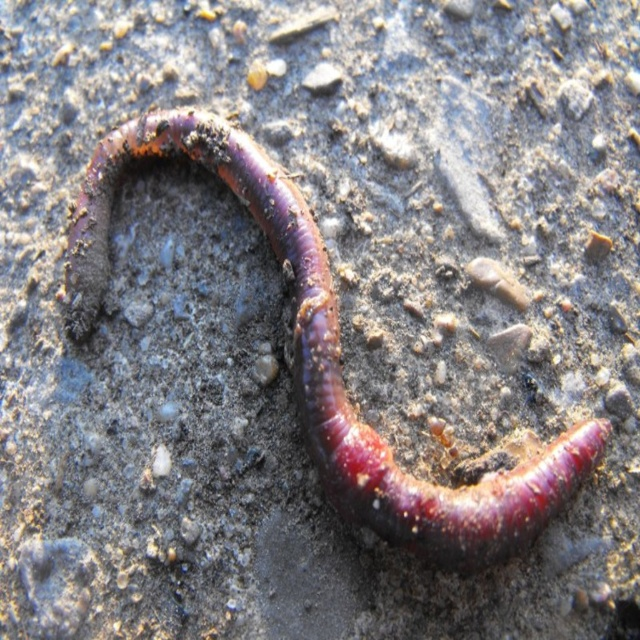Worm: (65, 108, 612, 569)
